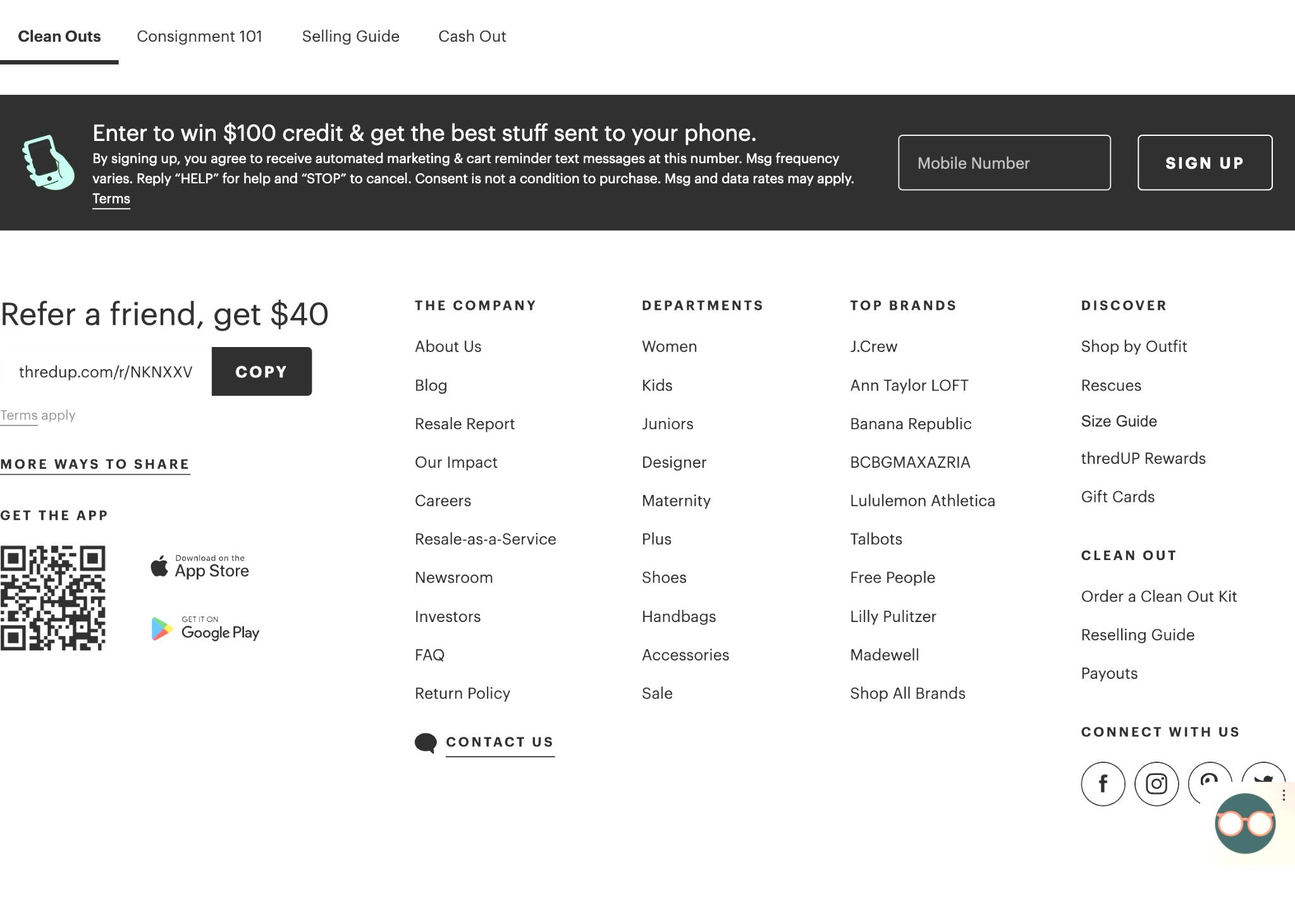webelement: (975, 91, 1229, 345), (92, 147, 880, 207), (486, 415, 807, 506), (1080, 150, 1290, 223), (872, 150, 1080, 223), (0, 292, 328, 332), (897, 134, 1110, 190), (0, 545, 105, 651), (915, 9, 1018, 112), (0, 347, 211, 395), (1054, 38, 1246, 89), (119, 6, 280, 64), (283, 6, 416, 64), (1137, 134, 1271, 190), (0, 6, 118, 64), (132, 545, 277, 588), (132, 606, 277, 649), (420, 6, 523, 64), (64, 91, 231, 121), (211, 347, 310, 395), (723, 431, 881, 461), (21, 116, 73, 207), (64, 398, 217, 428), (64, 330, 217, 359), (1080, 584, 1236, 609), (849, 489, 995, 515), (723, 193, 844, 223), (0, 405, 189, 424), (0, 455, 189, 474), (414, 527, 555, 552), (64, 126, 174, 156), (1080, 446, 1205, 471), (445, 729, 554, 757), (849, 412, 971, 437), (724, 261, 828, 290), (849, 450, 969, 475), (64, 297, 167, 326), (322, 330, 425, 359), (849, 374, 968, 399), (850, 682, 965, 707), (1080, 623, 1194, 648), (1080, 334, 1187, 360), (723, 330, 817, 359), (150, 615, 259, 640), (64, 227, 154, 257), (64, 262, 149, 292), (150, 554, 249, 579), (414, 412, 513, 437), (64, 364, 146, 394), (414, 682, 509, 707), (724, 227, 801, 257), (907, 242, 1005, 265), (907, 337, 1005, 360), (850, 604, 936, 630), (723, 125, 797, 155), (850, 566, 935, 592), (64, 160, 140, 189), (641, 643, 729, 668), (724, 160, 799, 189), (414, 450, 497, 475), (413, 566, 492, 592), (322, 125, 390, 155), (322, 363, 389, 393), (1080, 761, 1124, 805), (1134, 761, 1178, 805), (1187, 761, 1231, 805), (1241, 761, 1285, 805), (641, 604, 715, 630), (1080, 485, 1153, 510), (641, 489, 710, 515), (414, 334, 480, 360), (322, 296, 381, 325), (850, 643, 918, 668), (414, 604, 479, 630), (641, 450, 706, 475), (322, 261, 378, 290), (1080, 411, 1156, 432), (1080, 374, 1140, 399), (907, 406, 972, 429), (414, 489, 470, 515), (641, 334, 696, 360), (1080, 661, 1137, 686), (724, 296, 771, 325), (723, 398, 768, 428), (641, 412, 693, 437), (849, 527, 901, 552), (907, 305, 963, 328), (64, 194, 107, 223), (850, 334, 897, 360), (322, 227, 362, 257), (322, 160, 363, 189), (907, 273, 957, 296), (641, 566, 685, 592), (322, 193, 355, 223), (523, 125, 556, 155), (523, 160, 557, 189), (723, 363, 755, 393), (414, 374, 446, 399), (641, 374, 672, 399), (641, 682, 672, 707), (91, 189, 129, 209), (414, 643, 444, 668), (641, 527, 671, 552), (0, 406, 37, 425), (414, 732, 436, 754), (1145, 772, 1167, 794), (1199, 772, 1218, 794), (1252, 774, 1273, 792), (773, 434, 788, 449), (1098, 772, 1107, 793)
